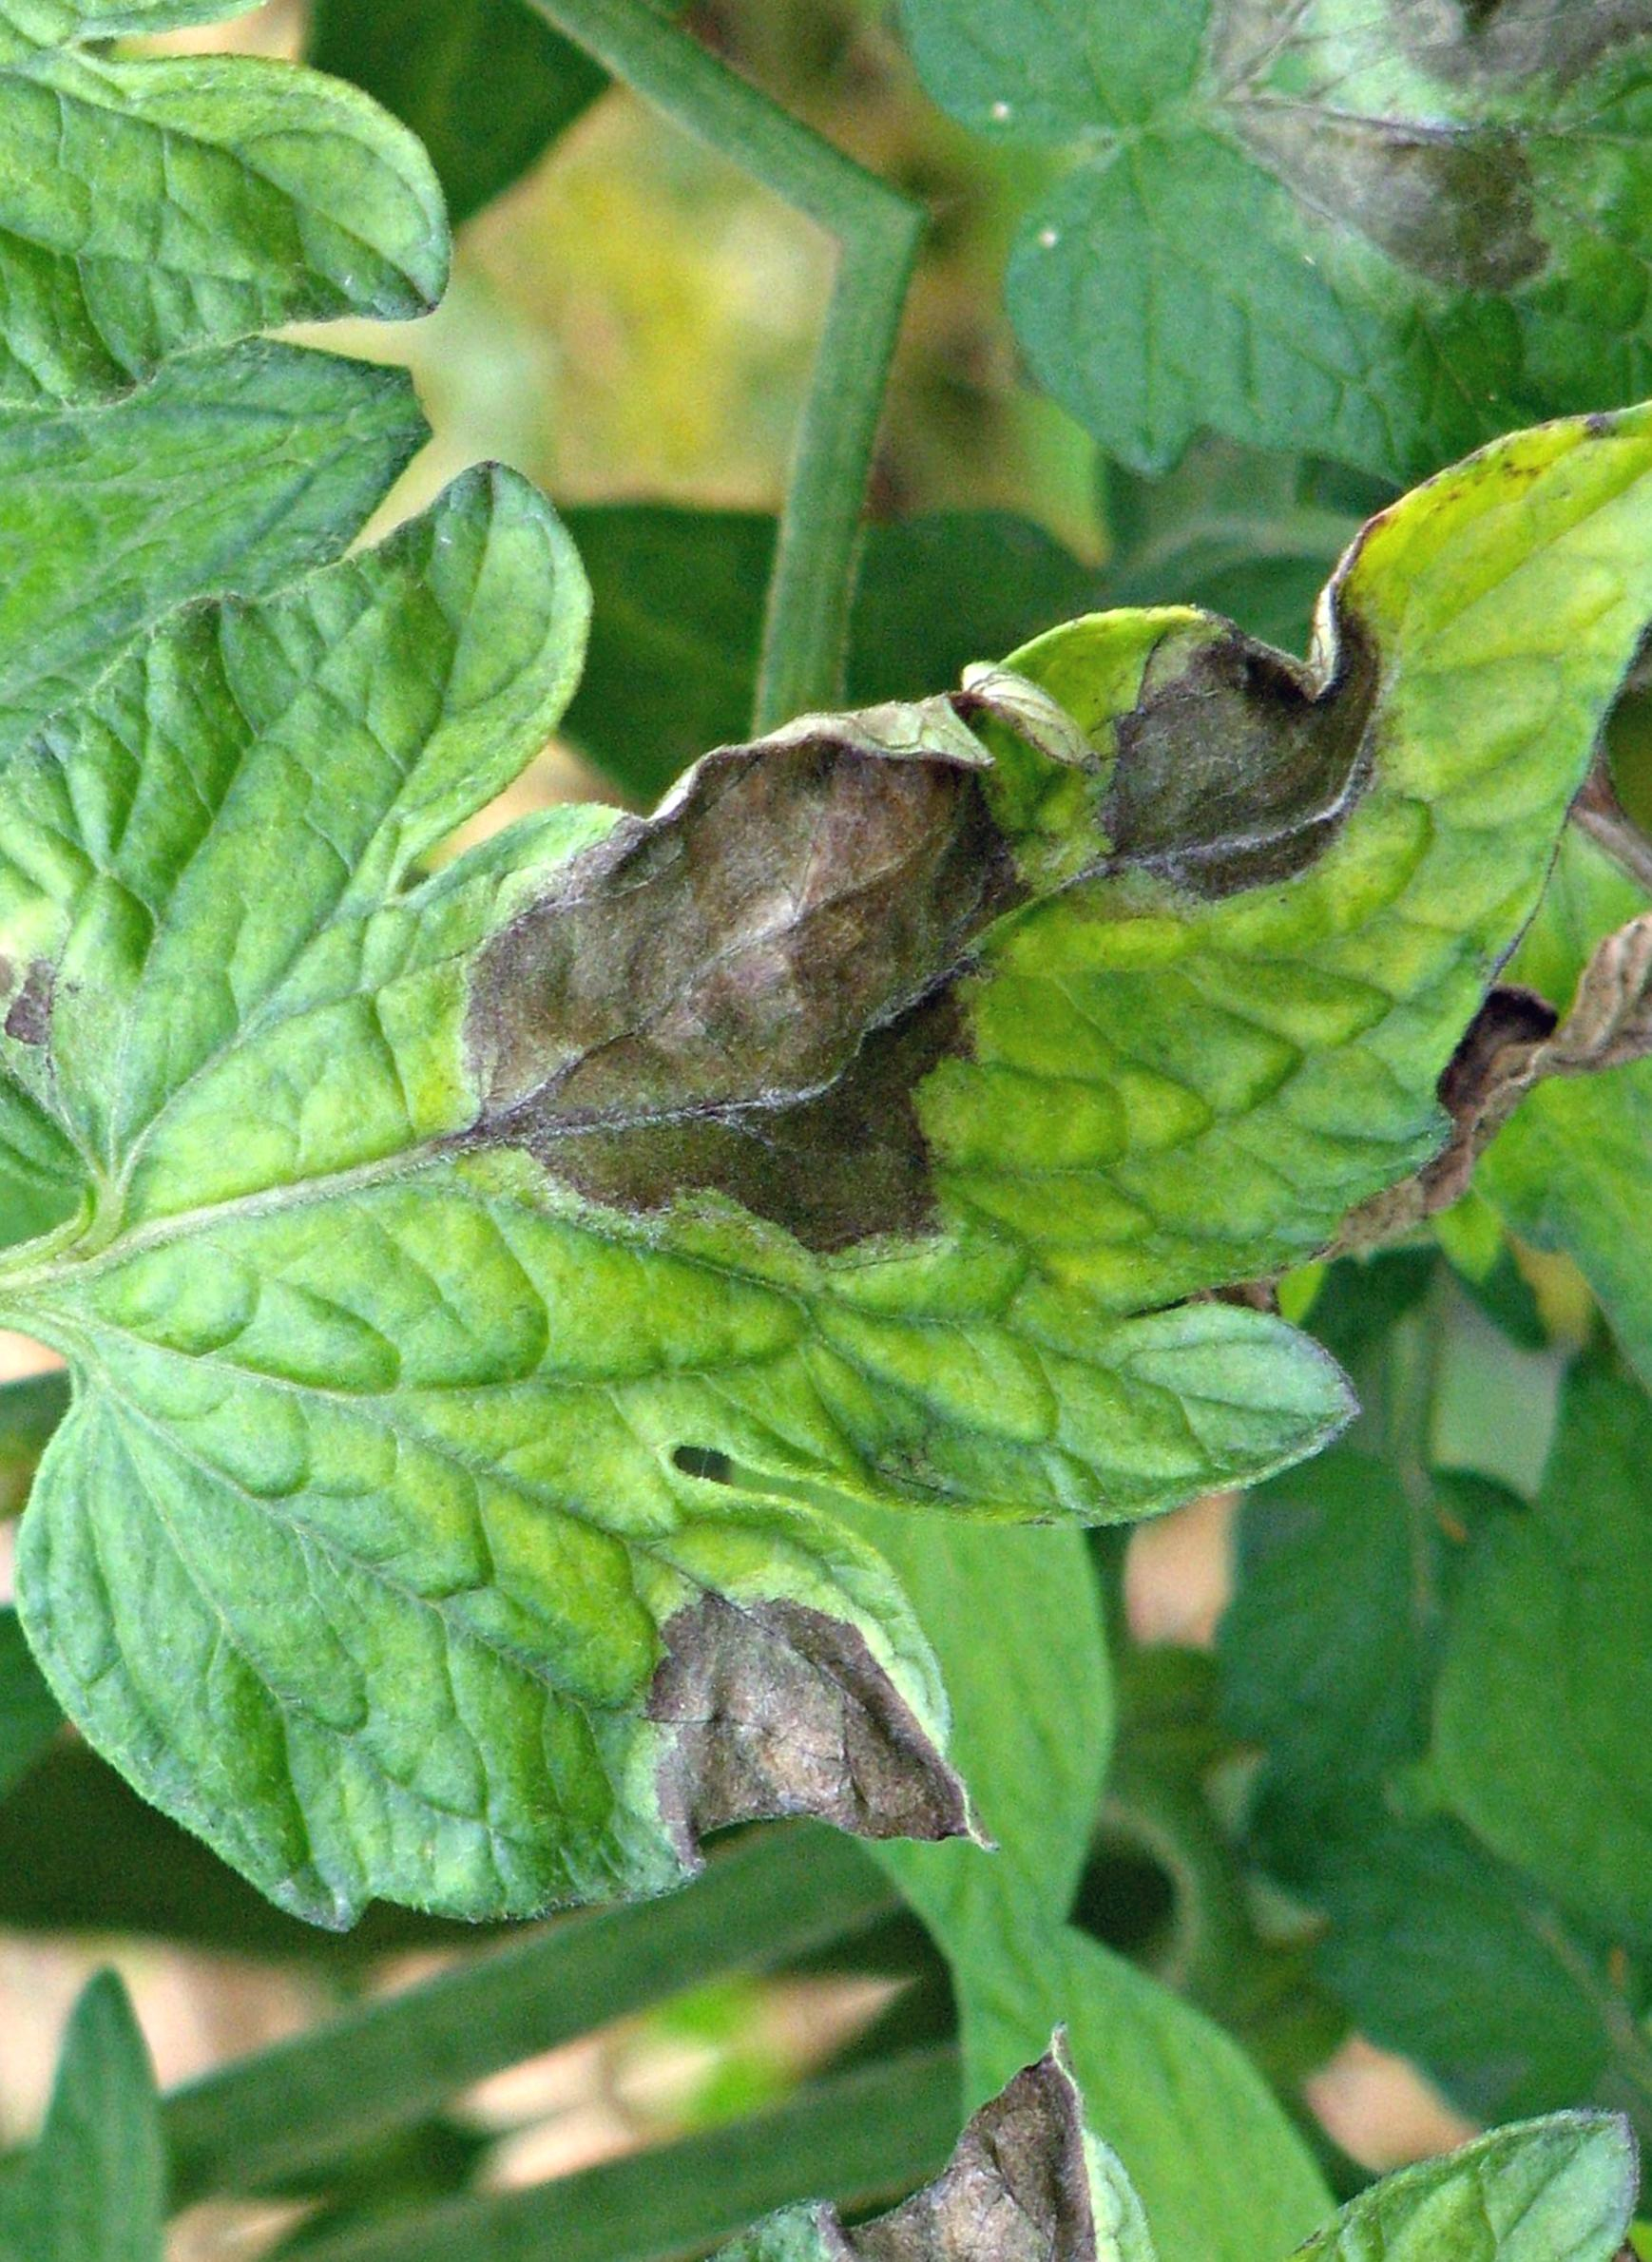Tomato leaf late blight: (0, 91, 1652, 2141)
